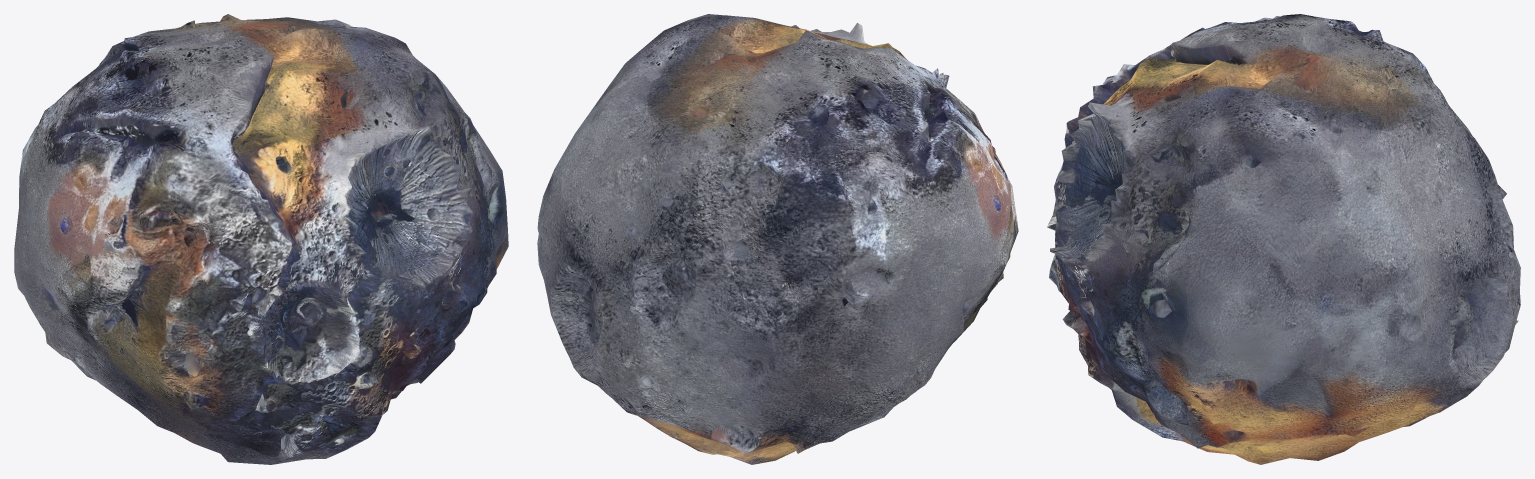
Rendered from Asteroid4.glb.
The picture shows the model from 3 angles, left to right: view 1: azimuth 30°, elevation 25°; view 2: azimuth 150°, elevation 25°; view 3: azimuth 270°, elevation 25°; orthographic projection. The views are drawn at different scales.
Visible parts, largest first — view 1: mesh_node; view 2: mesh_node; view 3: mesh_node.
Part boxes in pixels (box(x1,y1,x2,y2)): mesh_node: box(14, 14, 508, 464); mesh_node: box(537, 14, 1018, 464); mesh_node: box(1047, 14, 1520, 464).
Bounding box in the file's own units: 0.9961 × 0.8906 × 0.9531.
1 material, 1 textured.
